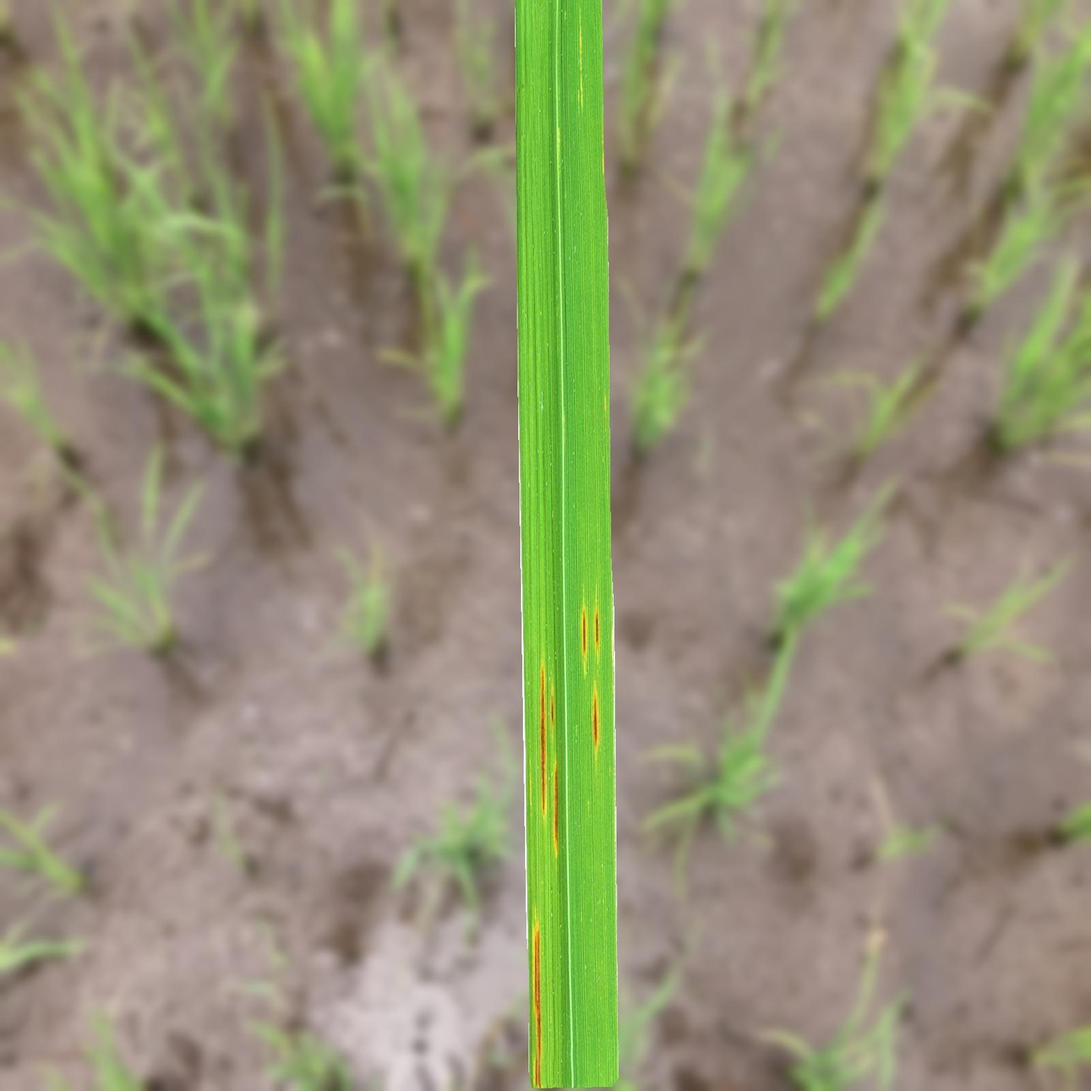LEAF: (515, 0, 618, 1088)
NBS: (533, 921, 540, 1088), (539, 663, 546, 816), (553, 761, 558, 854), (593, 680, 598, 761), (582, 606, 586, 675), (595, 606, 599, 652), (551, 688, 554, 738)
